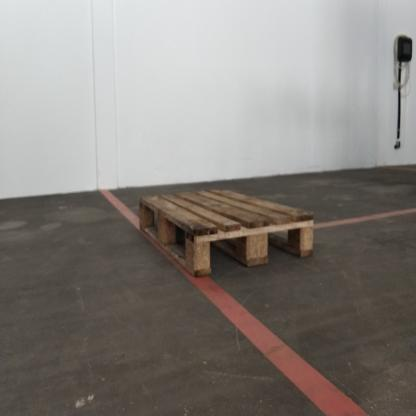BoxFace: (136, 185, 316, 283)
